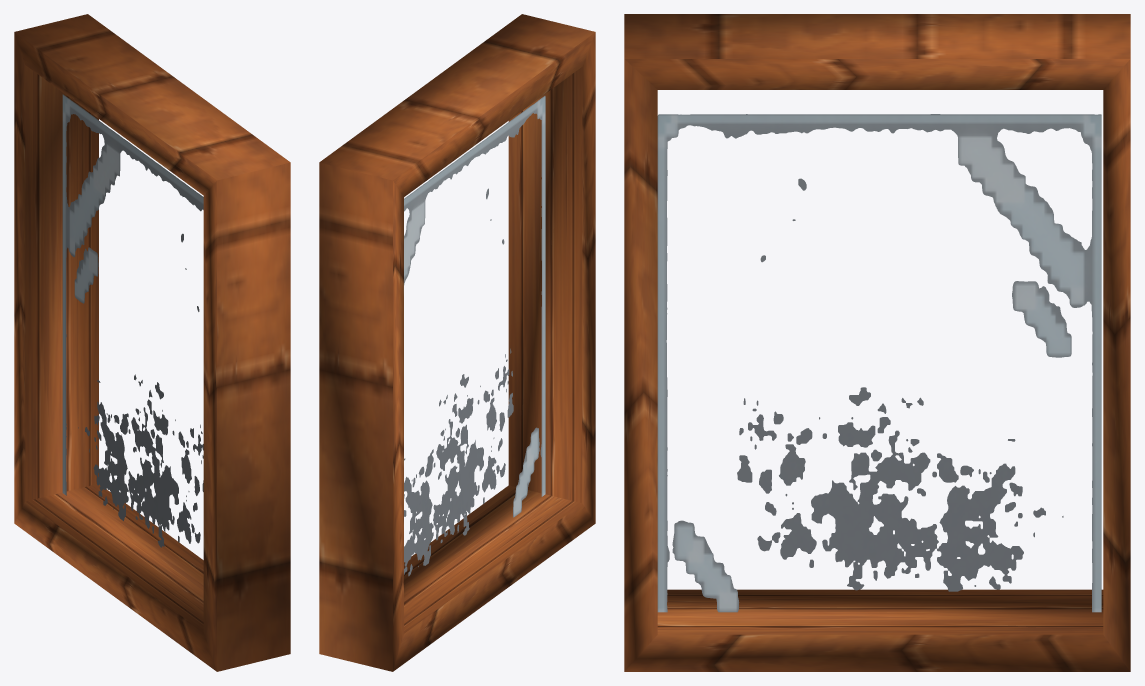
Rendered from test_window_01.fbx.
3 renders of one model, left to right at view 1: azimuth 30°, elevation 25°; view 2: azimuth 150°, elevation 25°; view 3: azimuth 270°, elevation 25°, orthographic. The views are drawn at different scales.
Visible parts, largest first — view 1: window_frame_06, frame_01_glass; view 2: window_frame_06, frame_01_glass; view 3: window_frame_06, frame_01_glass.
Boxes of the visible parts, left/top/right/bottom form: window_frame_06: left=14, top=14, right=290, bottom=671; frame_01_glass: left=62, top=94, right=203, bottom=547; window_frame_06: left=319, top=14, right=595, bottom=671; frame_01_glass: left=404, top=96, right=545, bottom=576; window_frame_06: left=624, top=14, right=1130, bottom=671; frame_01_glass: left=657, top=114, right=1101, bottom=612.
Size of the model in its own units: 0.6629 by 4.23 by 3.16.
